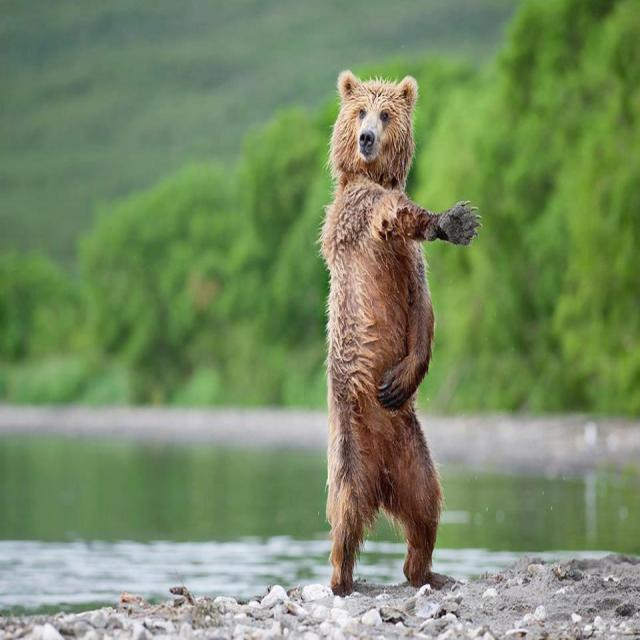Bear: (319, 71, 481, 600)
